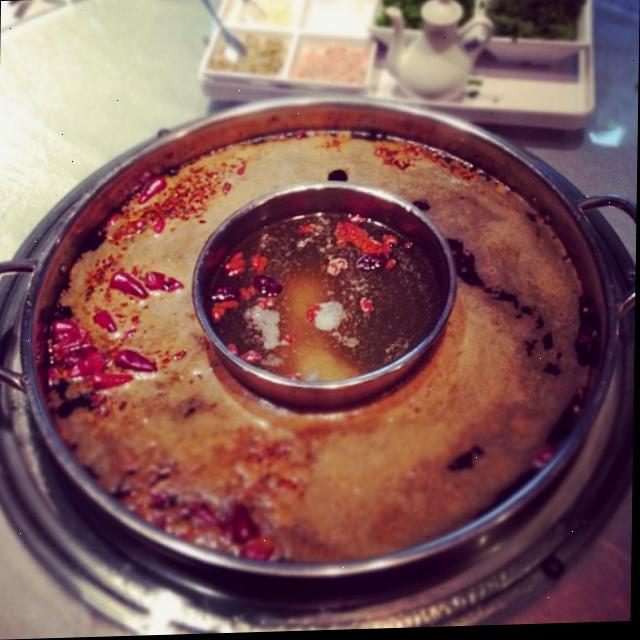汤锅炖物: (0, 72, 598, 617)
